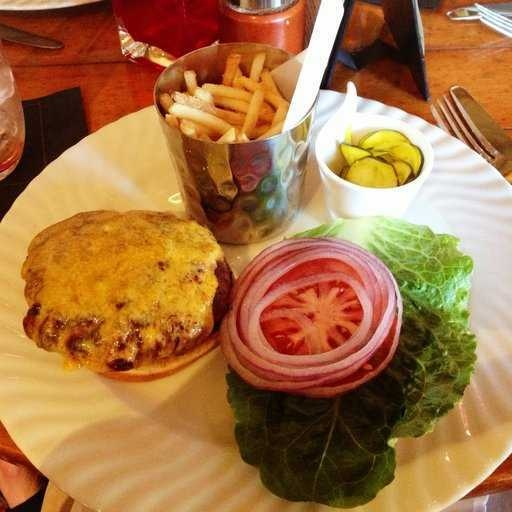hamburger: (24, 192, 235, 381)
